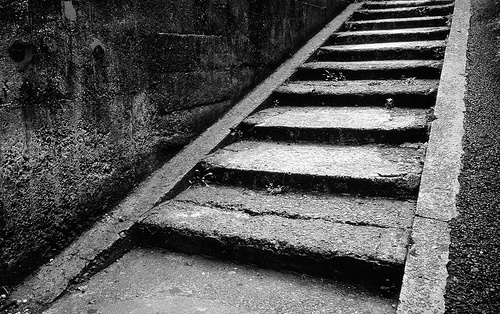stairs_up: (114, 4, 451, 314)
